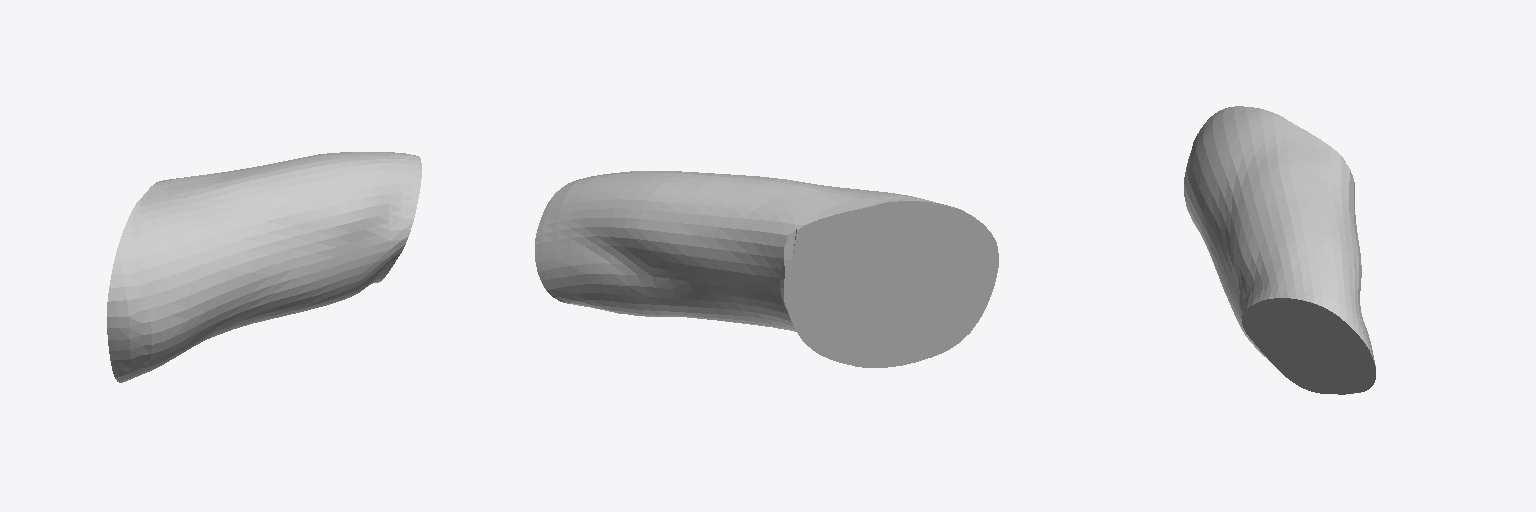
Rendered from upperarm_l_old.obj.
3 renders of one model, left to right at view 1: azimuth 30°, elevation 25°; view 2: azimuth 150°, elevation 25°; view 3: azimuth 270°, elevation 25°, orthographic.
Visible parts, largest first — view 1: upperarm_l_torso.008; view 2: upperarm_l_torso.008; view 3: upperarm_l_torso.008.
Part boxes in pixels (left/top/right/bottom): upperarm_l_torso.008: left=107, top=152, right=421, bottom=382; upperarm_l_torso.008: left=535, top=171, right=998, bottom=367; upperarm_l_torso.008: left=1184, top=106, right=1375, bottom=394.
Bounding box in the file's own units: 0.2938 × 0.122 × 0.1287.